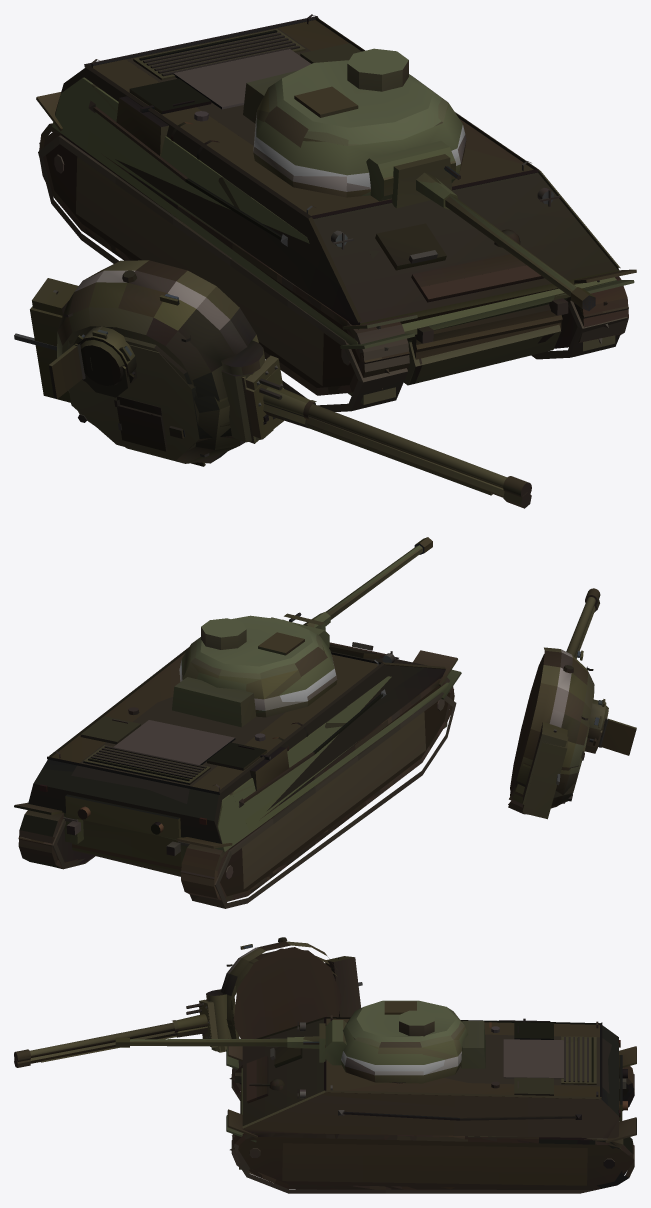
Rendered from tank_ww2_medium_fractured.glb.
The picture shows the model from 3 angles, top to bottom: view 1: azimuth 30°, elevation 25°; view 2: azimuth 150°, elevation 25°; view 3: azimuth 270°, elevation 25°; orthographic projection. The views are drawn at different scales.
Visible parts, largest first — view 1: tank_ww2_medium_RUIN_LOD0_mesh, tank_ww2_medium_RUIN_LOD2_mesh, tank_ww2_medium_RUIN_LOD0_loose_turret_mesh, tank_ww2_medium_RUIN_LOD1_mesh, tank_ww2_medium_FRAC_12_mesh, tank_ww2_medium_RUIN_LOD1_loose_turret_mesh, tank_ww2_medium_DMG_mesh, tank_ww2_medium_DMG_turret_mesh, tank_ww2_medium_FRAC_07_mesh, tank_ww2_medium_DMG_gun_mesh, tank_ww2_medium_FRAC_10_mesh, tank_ww2_medium_FRAC_16_mesh (+3 smaller); view 2: tank_ww2_medium_RUIN_LOD0_mesh, tank_ww2_medium_RUIN_LOD1_mesh, tank_ww2_medium_RUIN_LOD2_mesh, tank_ww2_medium_RUIN_LOD0_loose_turret_mesh, tank_ww2_medium_FRAC_12_mesh, tank_ww2_medium_DMG_turret_mesh, tank_ww2_medium_DMG_mesh, tank_ww2_medium_FRAC_10_mesh, tank_ww2_medium_FRAC_04_mesh, tank_ww2_medium_RUIN_LOD1_loose_turret_mesh, tank_ww2_medium_DMG_gun_mesh, tank_ww2_medium_FRAC_14_mesh; view 3: tank_ww2_medium_RUIN_LOD0_mesh, tank_ww2_medium_RUIN_LOD2_mesh, tank_ww2_medium_RUIN_LOD1_mesh, tank_ww2_medium_RUIN_LOD0_loose_turret_mesh, tank_ww2_medium_FRAC_12_mesh, tank_ww2_medium_DMG_turret_mesh, tank_ww2_medium_RUIN_LOD1_loose_turret_mesh, tank_ww2_medium_DMG_mesh, tank_ww2_medium_DMG_gun_mesh.
Boxes of the visible parts, x1=… form: tank_ww2_medium_RUIN_LOD0_mesh: x1=36, y1=14, x2=628, y2=395; tank_ww2_medium_RUIN_LOD2_mesh: x1=30, y1=28, x2=628, y2=495; tank_ww2_medium_RUIN_LOD0_loose_turret_mesh: x1=14, y1=260, x2=531, y2=497; tank_ww2_medium_RUIN_LOD1_mesh: x1=39, y1=32, x2=636, y2=393; tank_ww2_medium_FRAC_12_mesh: x1=253, y1=48, x2=595, y2=310; tank_ww2_medium_RUIN_LOD1_loose_turret_mesh: x1=66, y1=336, x2=531, y2=508; tank_ww2_medium_DMG_mesh: x1=38, y1=83, x2=634, y2=411; tank_ww2_medium_DMG_turret_mesh: x1=243, y1=60, x2=466, y2=197; tank_ww2_medium_FRAC_07_mesh: x1=415, y1=290, x2=554, y2=383; tank_ww2_medium_DMG_gun_mesh: x1=383, y1=154, x2=595, y2=310; tank_ww2_medium_FRAC_10_mesh: x1=89, y1=88, x2=216, y2=221; tank_ww2_medium_FRAC_16_mesh: x1=309, y1=310, x2=422, y2=411; tank_ww2_medium_RUIN_LOD0_mesh: x1=14, y1=642, x2=457, y2=901; tank_ww2_medium_RUIN_LOD1_mesh: x1=18, y1=650, x2=457, y2=901; tank_ww2_medium_RUIN_LOD2_mesh: x1=18, y1=659, x2=586, y2=896; tank_ww2_medium_RUIN_LOD0_loose_turret_mesh: x1=509, y1=588, x2=636, y2=804; tank_ww2_medium_FRAC_12_mesh: x1=172, y1=543, x2=424, y2=727; tank_ww2_medium_DMG_turret_mesh: x1=174, y1=627, x2=337, y2=726; tank_ww2_medium_DMG_mesh: x1=20, y1=692, x2=456, y2=908; tank_ww2_medium_FRAC_10_mesh: x1=233, y1=728, x2=325, y2=831; tank_ww2_medium_FRAC_04_mesh: x1=167, y1=794, x2=251, y2=894; tank_ww2_medium_RUIN_LOD1_loose_turret_mesh: x1=508, y1=600, x2=602, y2=811; tank_ww2_medium_DMG_gun_mesh: x1=284, y1=537, x2=432, y2=627; tank_ww2_medium_FRAC_14_mesh: x1=324, y1=676, x2=413, y2=757; tank_ww2_medium_RUIN_LOD0_mesh: x1=227, y1=1015, x2=636, y2=1189; tank_ww2_medium_RUIN_LOD2_mesh: x1=41, y1=949, x2=634, y2=1191; tank_ww2_medium_RUIN_LOD1_mesh: x1=227, y1=1018, x2=634, y2=1189; tank_ww2_medium_RUIN_LOD0_loose_turret_mesh: x1=14, y1=937, x2=362, y2=1061; tank_ww2_medium_FRAC_12_mesh: x1=130, y1=1000, x2=485, y2=1075; tank_ww2_medium_DMG_turret_mesh: x1=341, y1=1001, x2=485, y2=1083; tank_ww2_medium_RUIN_LOD1_loose_turret_mesh: x1=14, y1=947, x2=341, y2=1067; tank_ww2_medium_DMG_mesh: x1=226, y1=1050, x2=633, y2=1193; tank_ww2_medium_DMG_gun_mesh: x1=115, y1=1020, x2=345, y2=1048.
Size of the model in its own units: 6.11 by 2.5 by 9.71.
